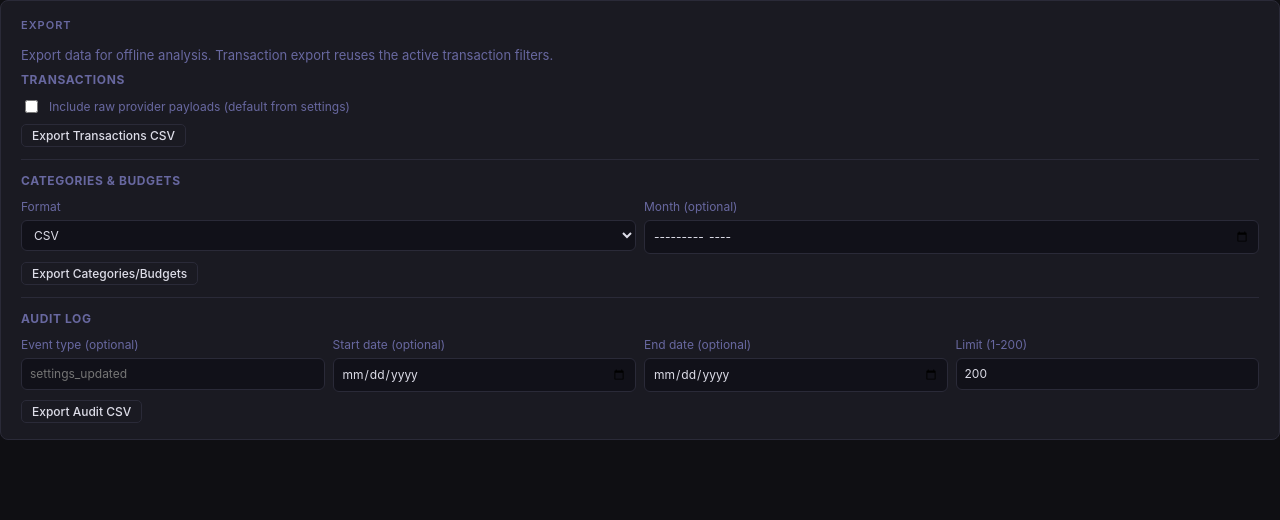
ExportPanel › exports categories/budgets json  REQ: ACC-EXP-002
This screenshot has width=1280, height=520.
Select "JSON" in the dropdown with test id "export-categories-format": (328, 236) [21,220,636,251]
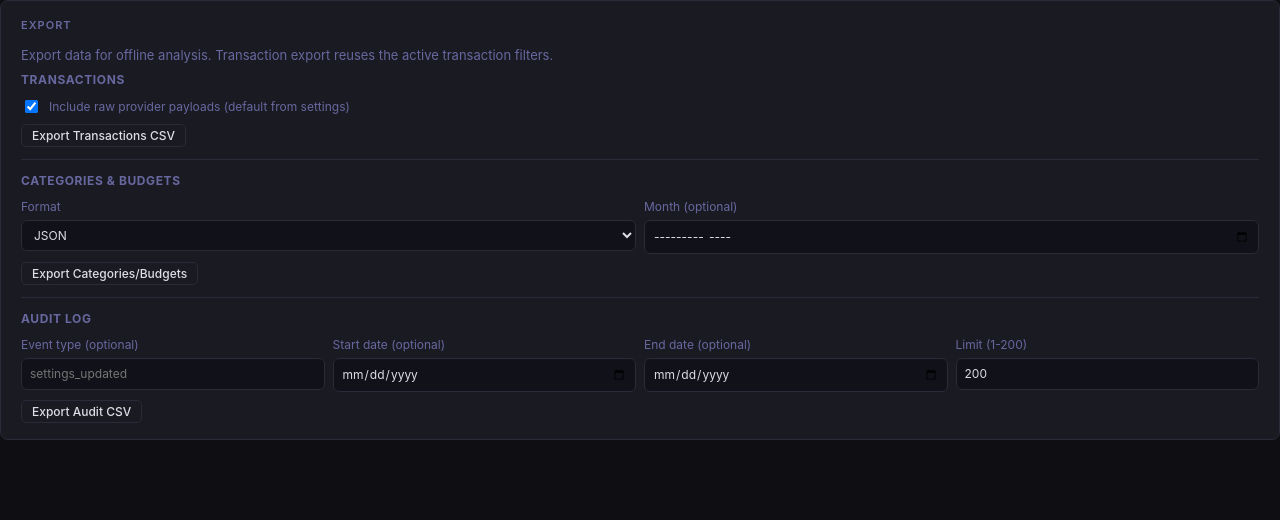
In the field with test id "export-categories-month": (952, 237) [644,220,1259,254], type "2026-01"
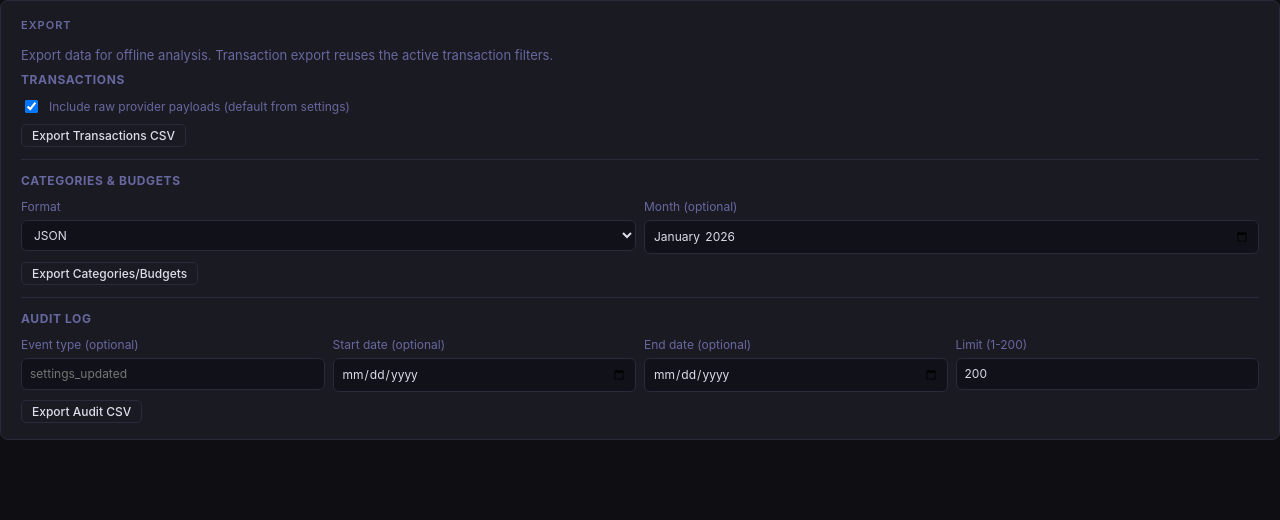
Click the button with test id "export-categories-budgets-btn": (110, 274) [21,262,198,285]
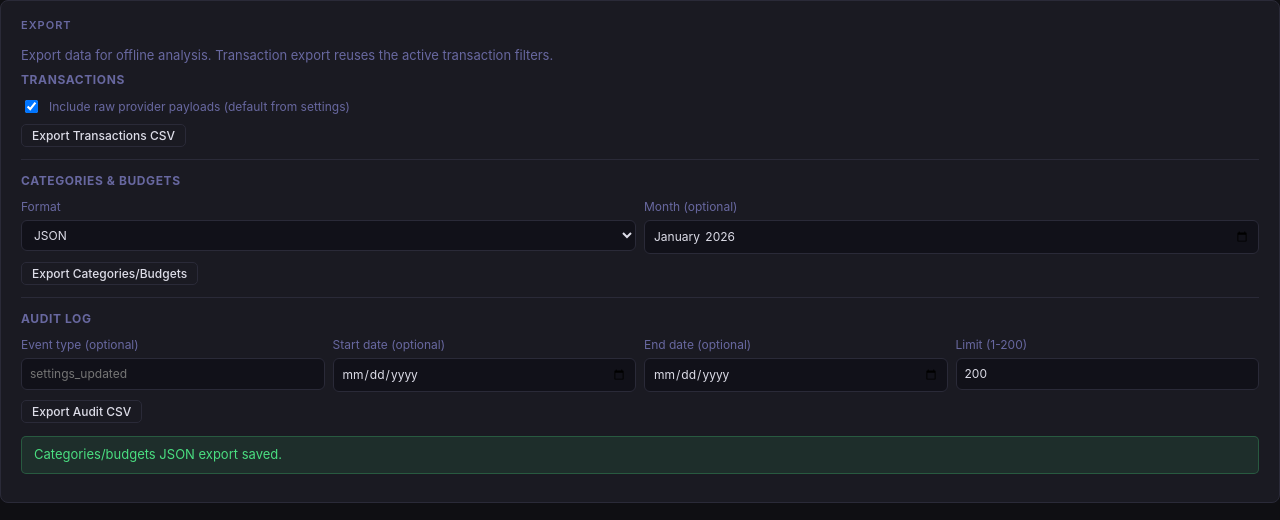
Now the text "Categories/budgets JSON export saved." is shown, box [21,436,1259,474]
